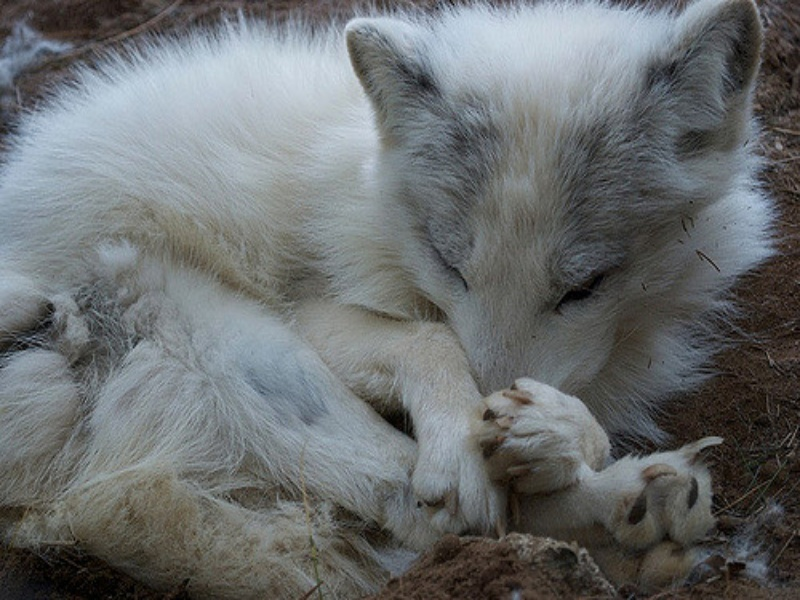fox: (1, 2, 768, 564)
